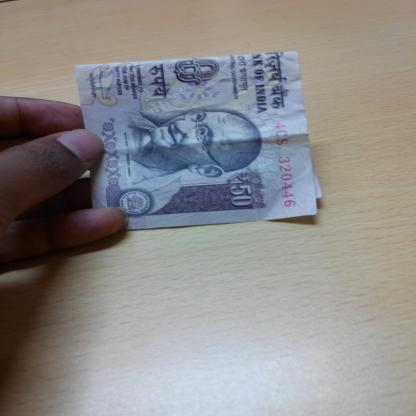Old50Front: (75, 52, 323, 231)
